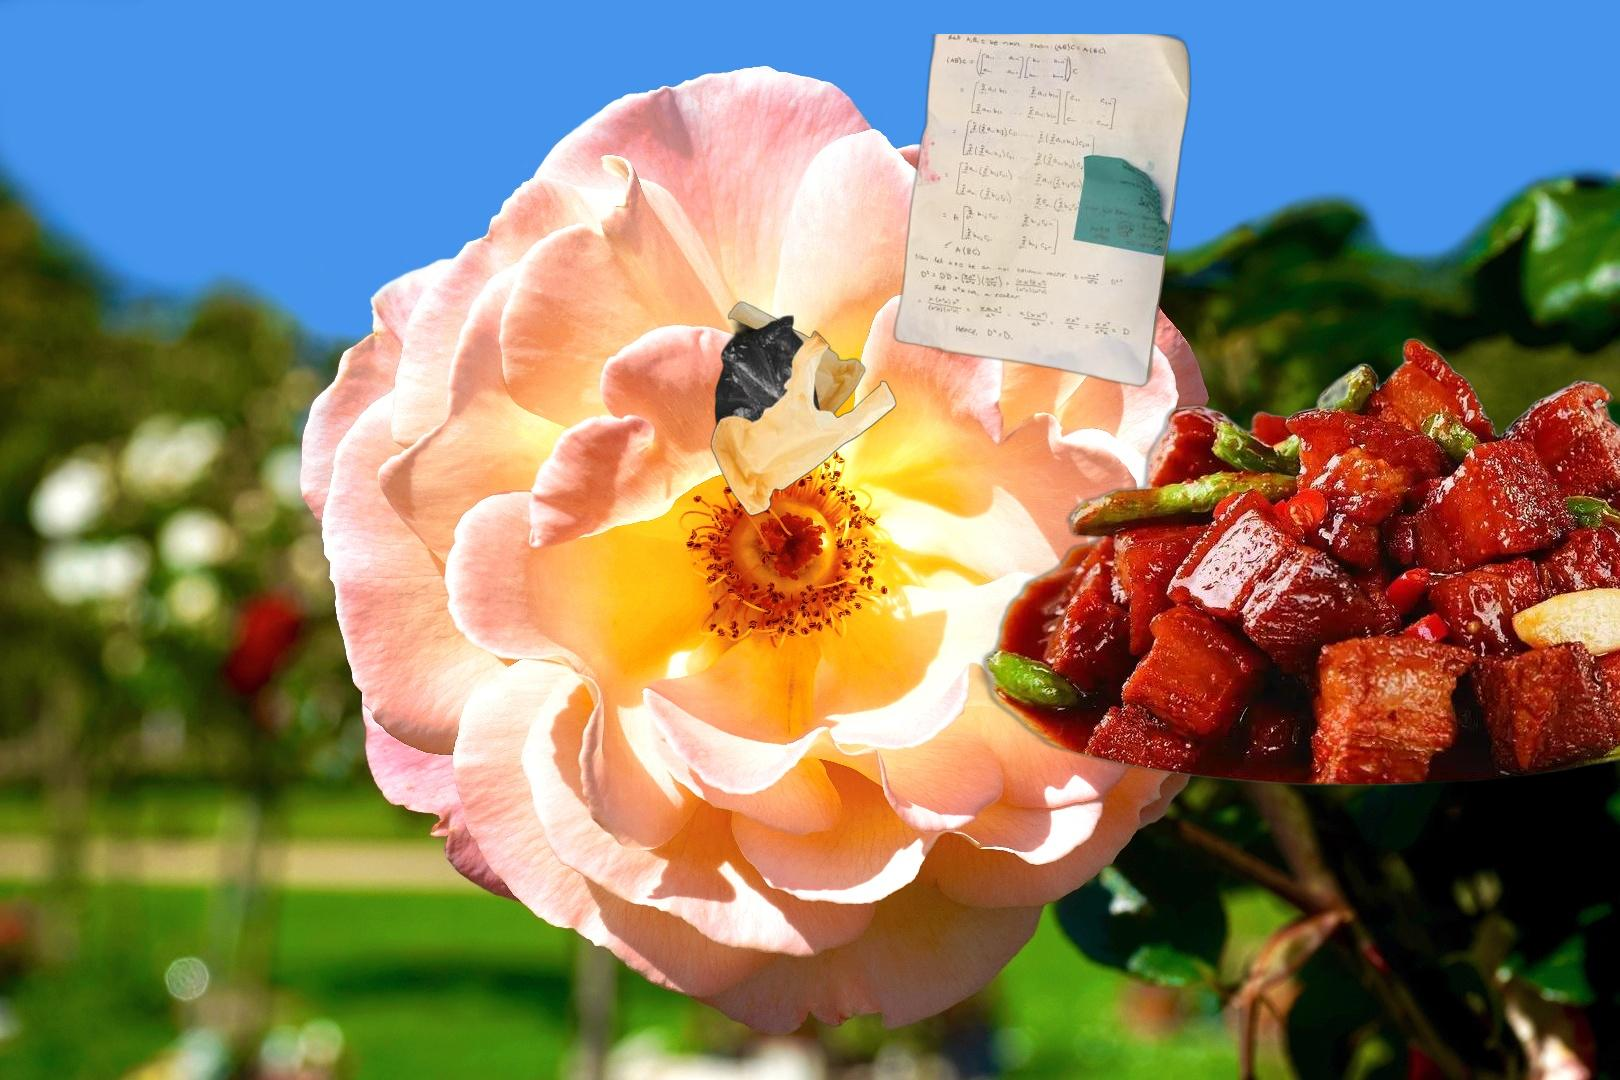biological: (974, 331, 1620, 791)
paper: (890, 34, 1195, 389)
plastic-bag: (708, 299, 899, 520)
